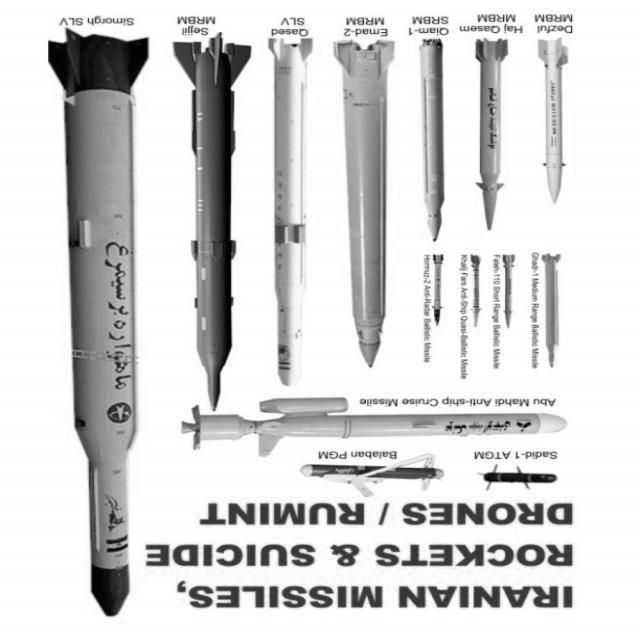Missile: (40, 27, 153, 627), (162, 35, 253, 416), (157, 396, 577, 460), (328, 33, 398, 375), (409, 33, 454, 251), (467, 33, 515, 234), (526, 33, 579, 208)
